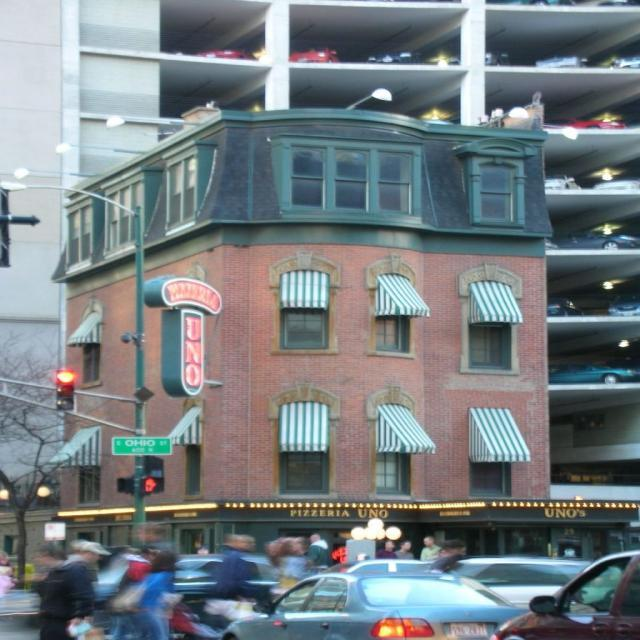traffic light: (56, 369, 75, 411)
